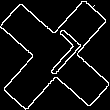L_SW: (26, 26, 84, 84)
